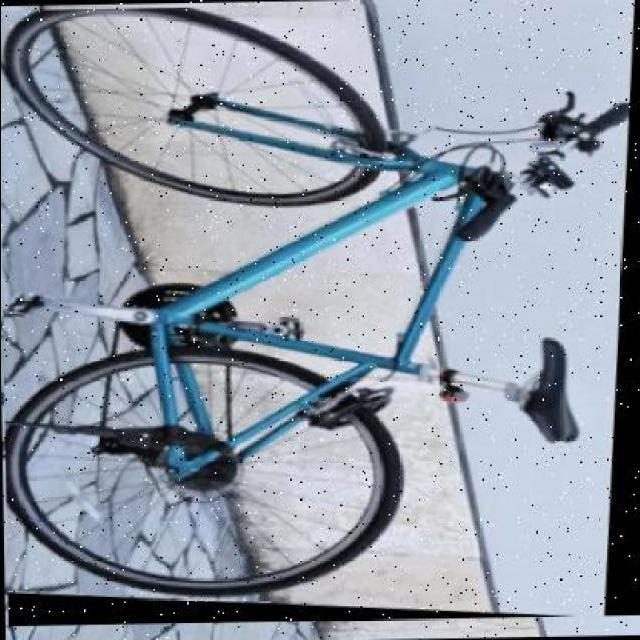bicycle: (3, 1, 640, 628)
